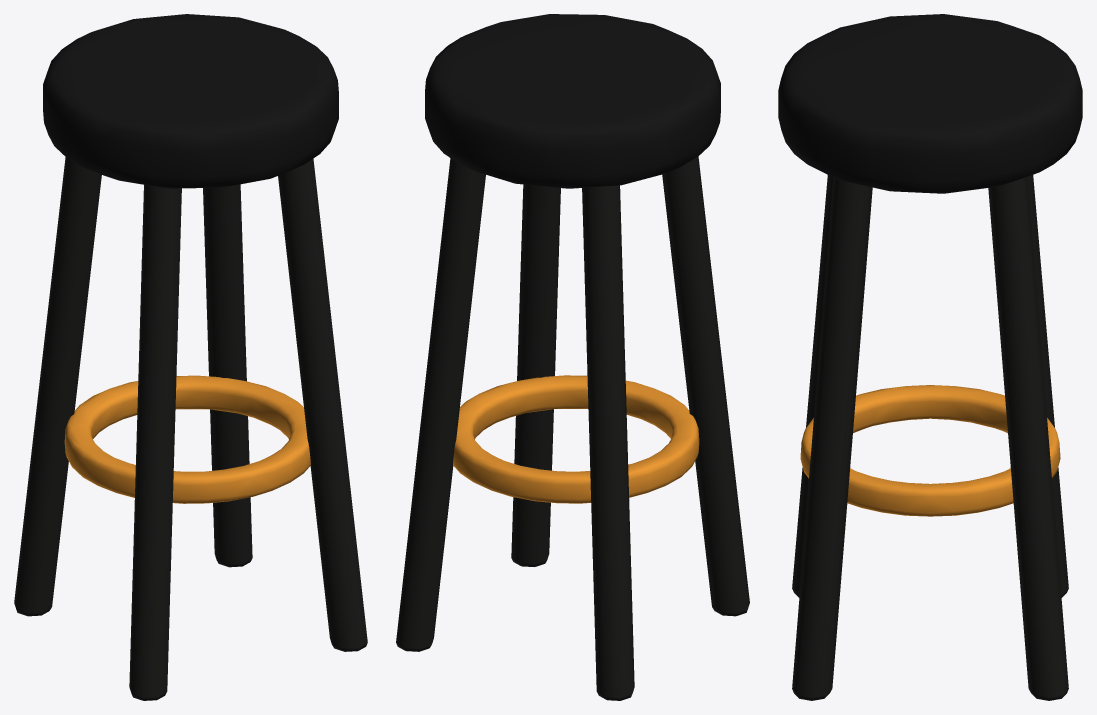
The model's file is barstool_04_leather_black.fbx.
The picture shows the model from 3 angles, left to right: view 1: azimuth 30°, elevation 25°; view 2: azimuth 150°, elevation 25°; view 3: azimuth 270°, elevation 25°; orthographic projection. The views are drawn at different scales.
Visible parts, largest first — view 1: barstool_04_leather_black; view 2: barstool_04_leather_black; view 3: barstool_04_leather_black.
Boxes of the visible parts, x1=… form: barstool_04_leather_black: x1=14, y1=14, x2=367, y2=700; barstool_04_leather_black: x1=396, y1=14, x2=749, y2=700; barstool_04_leather_black: x1=778, y1=14, x2=1082, y2=700.
Bounding box in the file's own units: 43.49 × 90.36 × 43.49.
2 materials, 2 textured.
